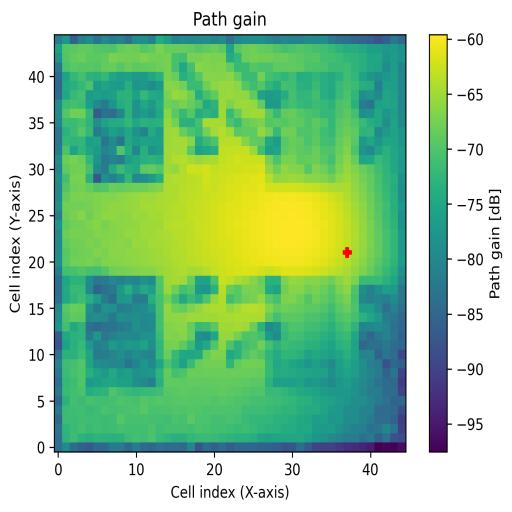Concrete: (266, 70, 343, 182)
Glass: (86, 72, 164, 184)
Metal: (265, 275, 337, 389)
Wood: (85, 275, 164, 388)
